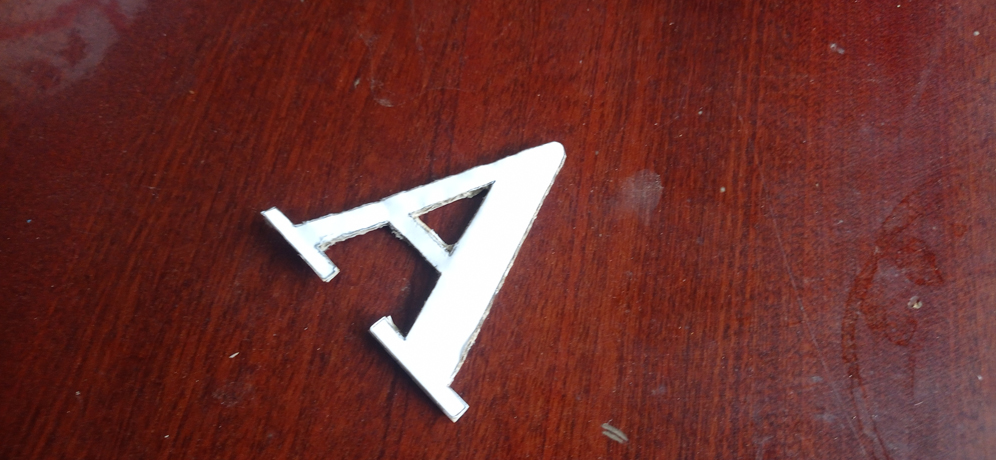a: (254, 138, 567, 423)
